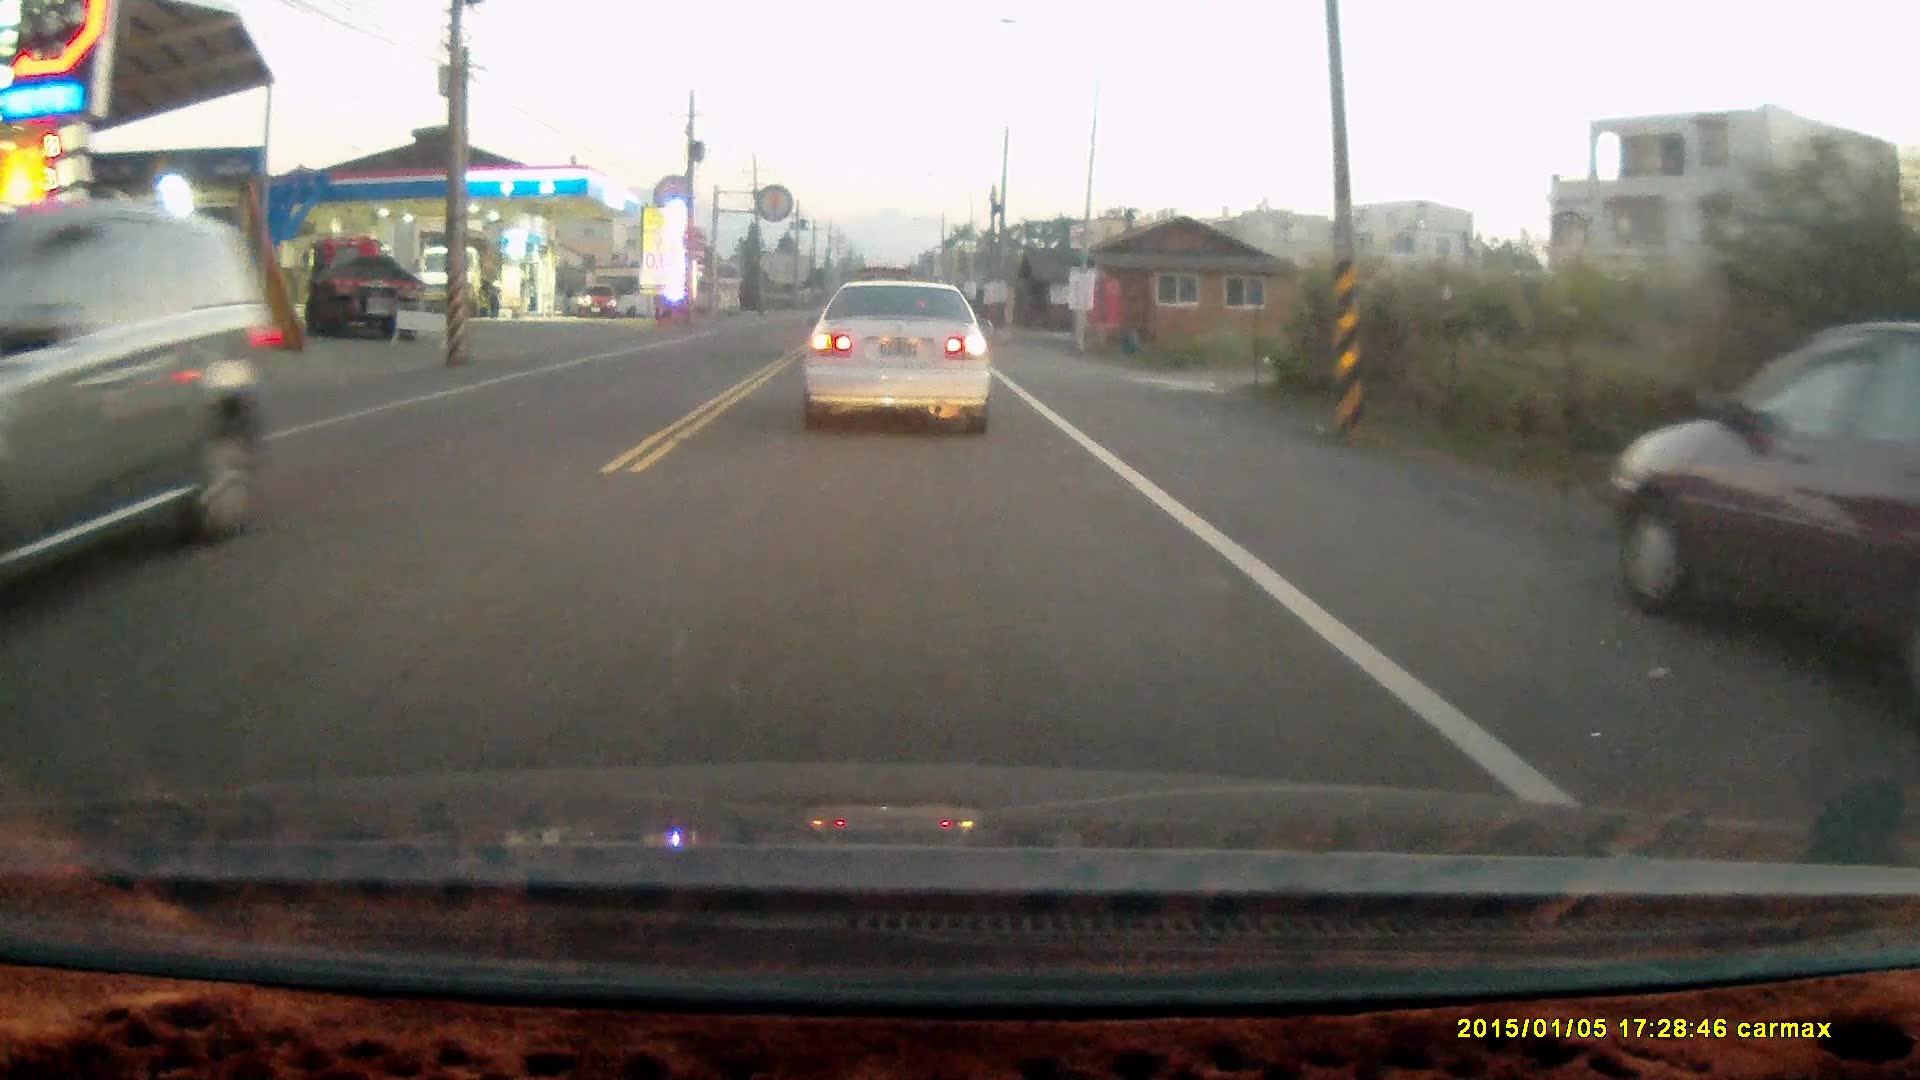pedestrian: (485, 274, 505, 317)
vehicle: (1610, 326, 1920, 726), (1, 209, 271, 615), (796, 281, 995, 441), (301, 233, 427, 342), (410, 236, 493, 320), (578, 286, 620, 321)
